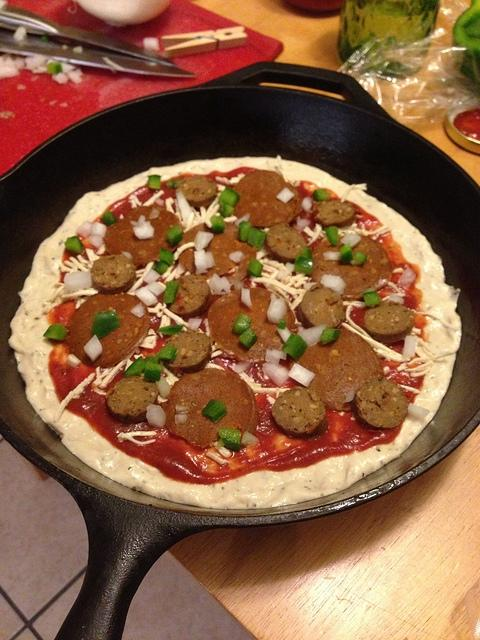bell pepper: (453, 0, 480, 59), (91, 310, 120, 339), (282, 333, 308, 360), (202, 399, 227, 423), (218, 427, 241, 452), (294, 248, 314, 275), (123, 356, 146, 376), (239, 327, 258, 351), (232, 314, 252, 336), (43, 323, 67, 341), (219, 188, 240, 208), (248, 228, 266, 251), (320, 328, 341, 346), (144, 360, 162, 381), (155, 344, 178, 360), (167, 224, 183, 247), (163, 281, 179, 304), (156, 324, 184, 336), (339, 242, 353, 264), (65, 236, 83, 253), (101, 209, 118, 227), (248, 258, 264, 276), (238, 220, 251, 242), (325, 226, 339, 246), (210, 215, 226, 232), (312, 188, 331, 202), (160, 248, 174, 267), (363, 292, 381, 306), (350, 252, 367, 266), (220, 202, 234, 218), (46, 62, 62, 74), (154, 261, 168, 274), (148, 175, 161, 189), (166, 179, 182, 189), (145, 354, 158, 364), (278, 318, 286, 329)
